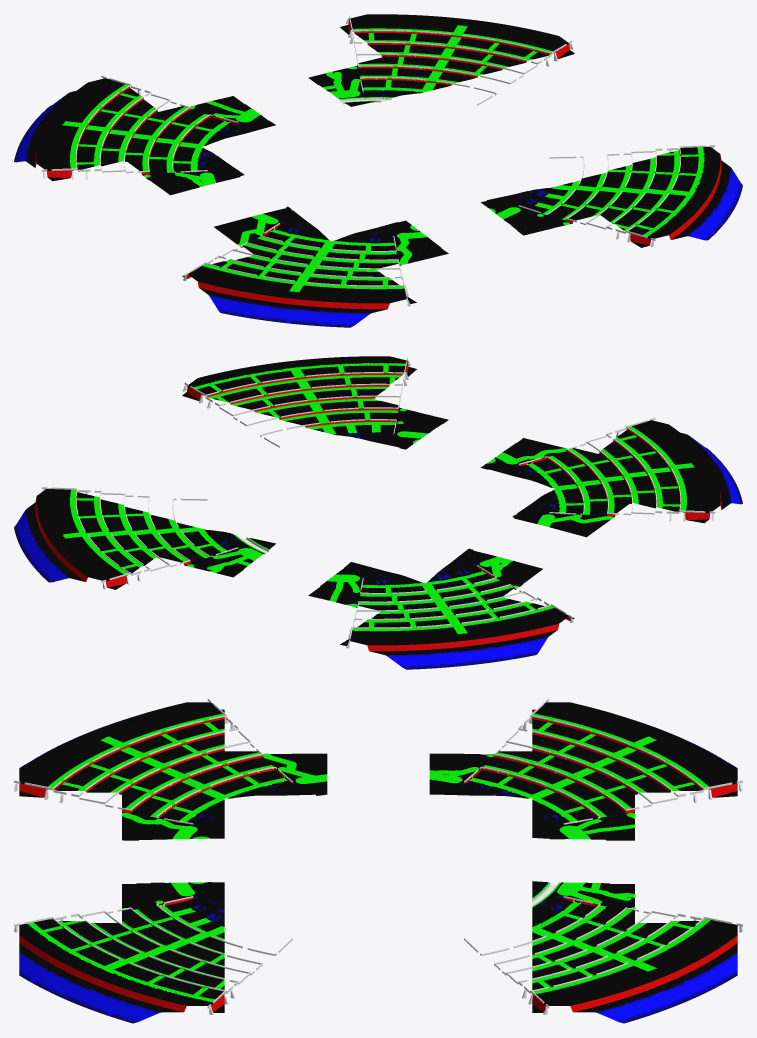
Rendered from concordia_terrain_moradas.glb.
The picture shows the model from 3 angles, top to bottom: view 1: azimuth 30°, elevation 25°; view 2: azimuth 150°, elevation 25°; view 3: azimuth 270°, elevation 25°; orthographic projection. The views are drawn at different scales.
Visible parts, largest first — view 1: TRN_City_Chunk_10_10_LOD0, TRN_City_Chunk_6_5_LOD0, TRN_City_Chunk_10_5_LOD0, TRN_City_Chunk_5_6_LOD0, TRN_City_Chunk_5_10_LOD0, TRN_City_Chunk_6_10_LOD0, TRN_City_Chunk_7_6_LOD0, TRN_City_Chunk_6_7_LOD0, TRN_City_Chunk_9_10_LOD0, TRN_City_Chunk_6_9_LOD0, TRN_City_Chunk_9_6_LOD0, TRN_City_Chunk_7_10_LOD0 (+14 smaller); view 2: TRN_City_Chunk_10_6_LOD0, TRN_City_Chunk_6_11_LOD0, TRN_City_Chunk_10_11_LOD0, TRN_City_Chunk_5_10_LOD0, TRN_City_Chunk_5_6_LOD0, TRN_City_Chunk_6_6_LOD0, TRN_City_Chunk_7_10_LOD0, TRN_City_Chunk_6_9_LOD0, TRN_City_Chunk_6_7_LOD0, TRN_City_Chunk_9_10_LOD0, TRN_City_Chunk_7_6_LOD0, TRN_City_Chunk_11_10_LOD0 (+14 smaller); view 3: TRN_City_Chunk_11_10_LOD0, TRN_City_Chunk_11_6_LOD0, TRN_City_Chunk_6_10_LOD0, TRN_City_Chunk_6_6_LOD0, TRN_City_Chunk_10_5_LOD0, TRN_City_Chunk_10_11_LOD0, TRN_City_Chunk_9_6_LOD0, TRN_City_Chunk_9_10_LOD0, TRN_City_Chunk_6_7_LOD0, TRN_City_Chunk_6_9_LOD0, TRN_City_Chunk_7_10_LOD0, TRN_City_Chunk_7_6_LOD0 (+14 smaller).
Part boxes in pixels (left/top/right/bottom): TRN_City_Chunk_10_10_LOD0: left=383, top=34, right=499, bottom=91; TRN_City_Chunk_6_5_LOD0: left=300, top=269, right=416, bottom=327; TRN_City_Chunk_10_5_LOD0: left=599, top=192, right=712, bottom=247; TRN_City_Chunk_5_6_LOD0: left=182, top=255, right=298, bottom=314; TRN_City_Chunk_5_10_LOD0: left=14, top=125, right=126, bottom=181; TRN_City_Chunk_6_10_LOD0: left=84, top=111, right=201, bottom=161; TRN_City_Chunk_7_6_LOD0: left=331, top=220, right=448, bottom=268; TRN_City_Chunk_6_7_LOD0: left=214, top=206, right=330, bottom=255; TRN_City_Chunk_9_10_LOD0: left=308, top=57, right=425, bottom=106; TRN_City_Chunk_6_9_LOD0: left=127, top=146, right=244, bottom=195; TRN_City_Chunk_9_6_LOD0: left=481, top=186, right=597, bottom=235; TRN_City_Chunk_7_10_LOD0: left=159, top=96, right=275, bottom=146; TRN_City_Chunk_10_6_LOD0: left=257, top=376, right=373, bottom=433; TRN_City_Chunk_6_11_LOD0: left=340, top=611, right=456, bottom=669; TRN_City_Chunk_10_11_LOD0: left=44, top=534, right=157, bottom=589; TRN_City_Chunk_5_10_LOD0: left=458, top=597, right=574, bottom=656; TRN_City_Chunk_5_6_LOD0: left=630, top=467, right=742, bottom=523; TRN_City_Chunk_6_6_LOD0: left=555, top=453, right=672, bottom=503; TRN_City_Chunk_7_10_LOD0: left=308, top=562, right=425, bottom=610; TRN_City_Chunk_6_9_LOD0: left=426, top=548, right=542, bottom=597; TRN_City_Chunk_6_7_LOD0: left=512, top=488, right=629, bottom=537; TRN_City_Chunk_9_10_LOD0: left=159, top=528, right=275, bottom=577; TRN_City_Chunk_7_6_LOD0: left=481, top=437, right=597, bottom=488; TRN_City_Chunk_11_10_LOD0: left=14, top=488, right=126, bottom=533; TRN_City_Chunk_11_10_LOD0: left=532, top=962, right=634, bottom=1023; TRN_City_Chunk_11_6_LOD0: left=122, top=962, right=224, bottom=1023; TRN_City_Chunk_6_10_LOD0: left=532, top=745, right=634, bottom=798; TRN_City_Chunk_6_6_LOD0: left=122, top=745, right=224, bottom=798; TRN_City_Chunk_10_5_LOD0: left=19, top=919, right=121, bottom=979; TRN_City_Chunk_10_11_LOD0: left=635, top=919, right=737, bottom=979; TRN_City_Chunk_9_6_LOD0: left=122, top=882, right=224, bottom=928; TRN_City_Chunk_9_10_LOD0: left=532, top=881, right=634, bottom=928; TRN_City_Chunk_6_7_LOD0: left=224, top=751, right=327, bottom=798; TRN_City_Chunk_6_9_LOD0: left=429, top=751, right=532, bottom=798; TRN_City_Chunk_7_10_LOD0: left=532, top=794, right=634, bottom=840; TRN_City_Chunk_7_6_LOD0: left=122, top=794, right=224, bottom=840.
Size of what is drawn, in the model's own units: 355 by 10.4 by 355.
Materials: 8 (8 with a texture image).
